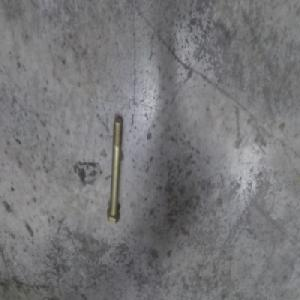Bolt: (107, 117, 126, 229)
